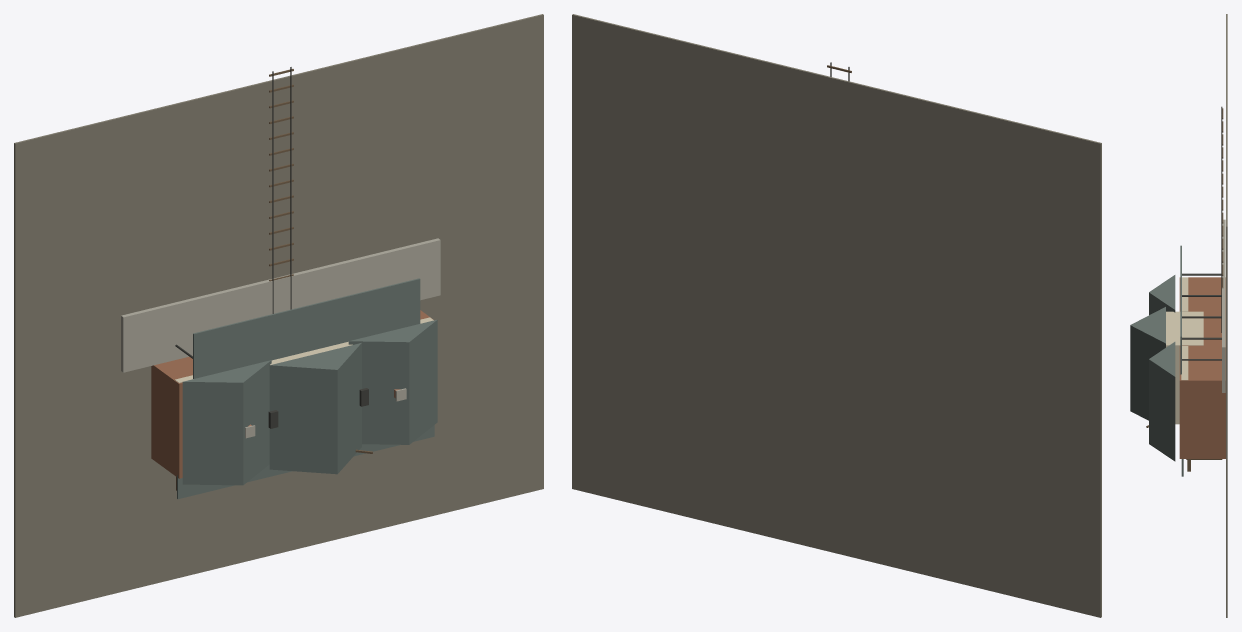
The model's file is east_london_station_early_1900s.glb.
3 views of the same model, side by side, from view 1: azimuth 30°, elevation 25°; view 2: azimuth 150°, elevation 25°; view 3: azimuth 270°, elevation 25° (orthographic). The views are drawn at different scales.
Parts seen in each view (by area): view 1: world; view 2: world; view 3: world.
Part boxes in pixels (x1,y1,x2,y2): world: (14,14,543,617); world: (572,14,1101,617); world: (1130,14,1227,617).
Size of the model in its own units: 70 by 61.5 by 13.58.
